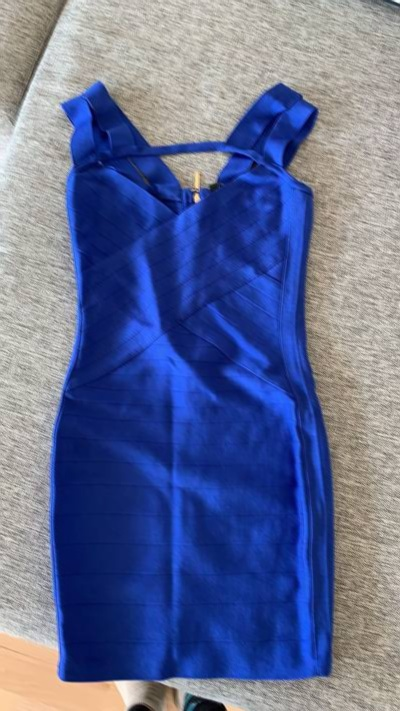Dress: (21, 73, 361, 687)
